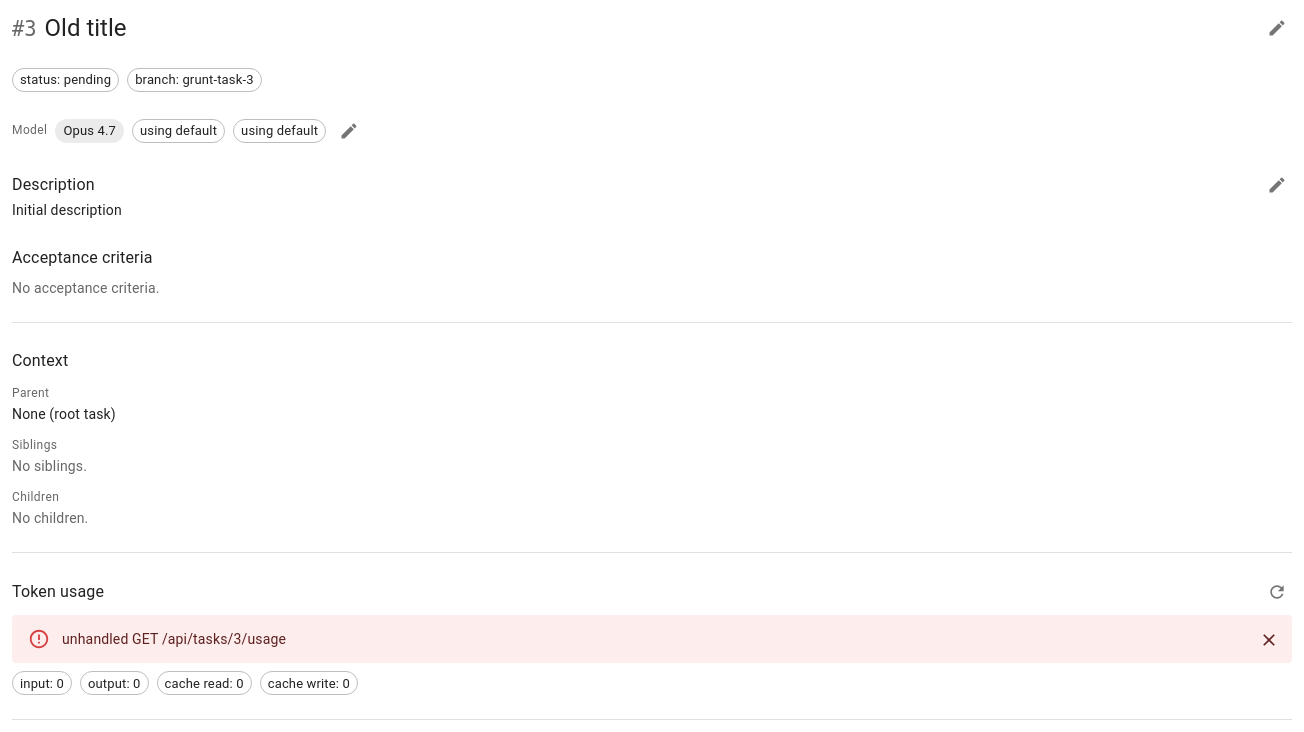
Test: TaskDetailPage › edits the title and PATCHes /api/tasks/:id with the new value
Expected: the heading "#3Old title" is shown, [12,14,126,42]
Click the button named "edit title" at (1277, 28), box [1262,13,1292,43]
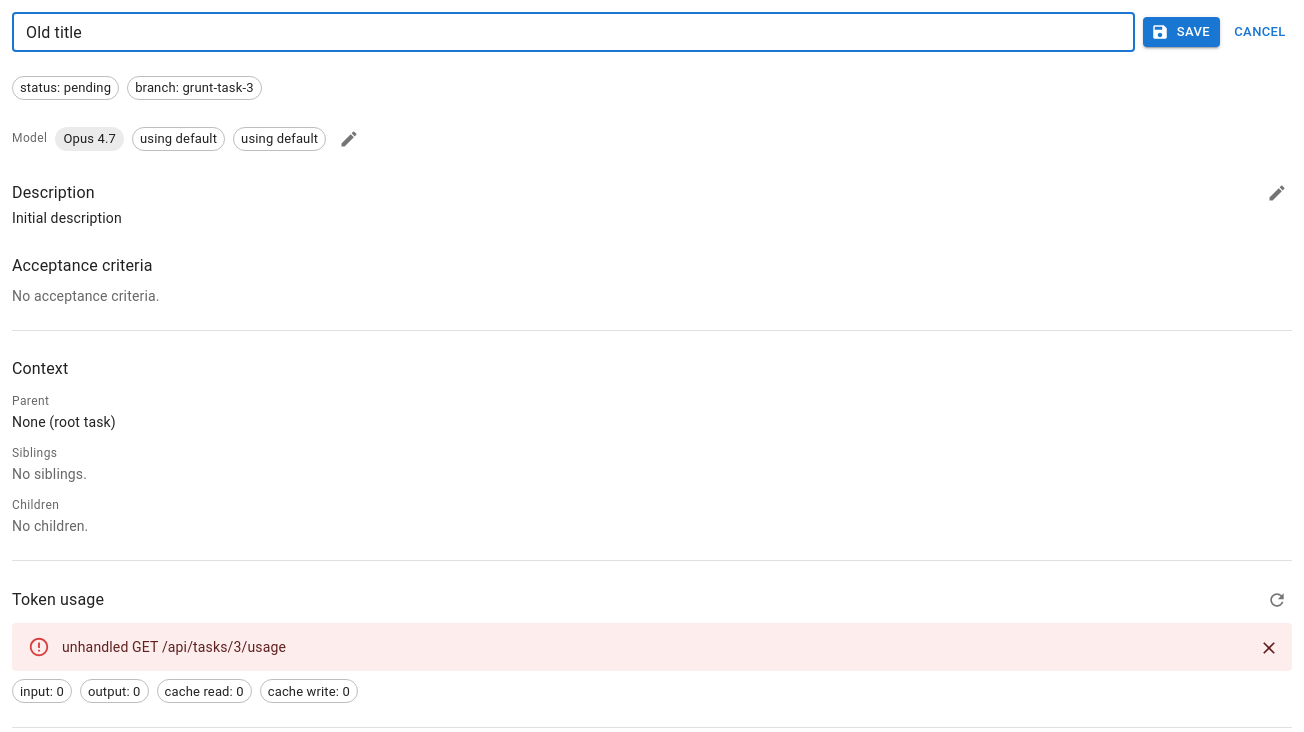
Replace the text in the field named "Title" with "New title" at (573, 32), box [12,12,1135,52]
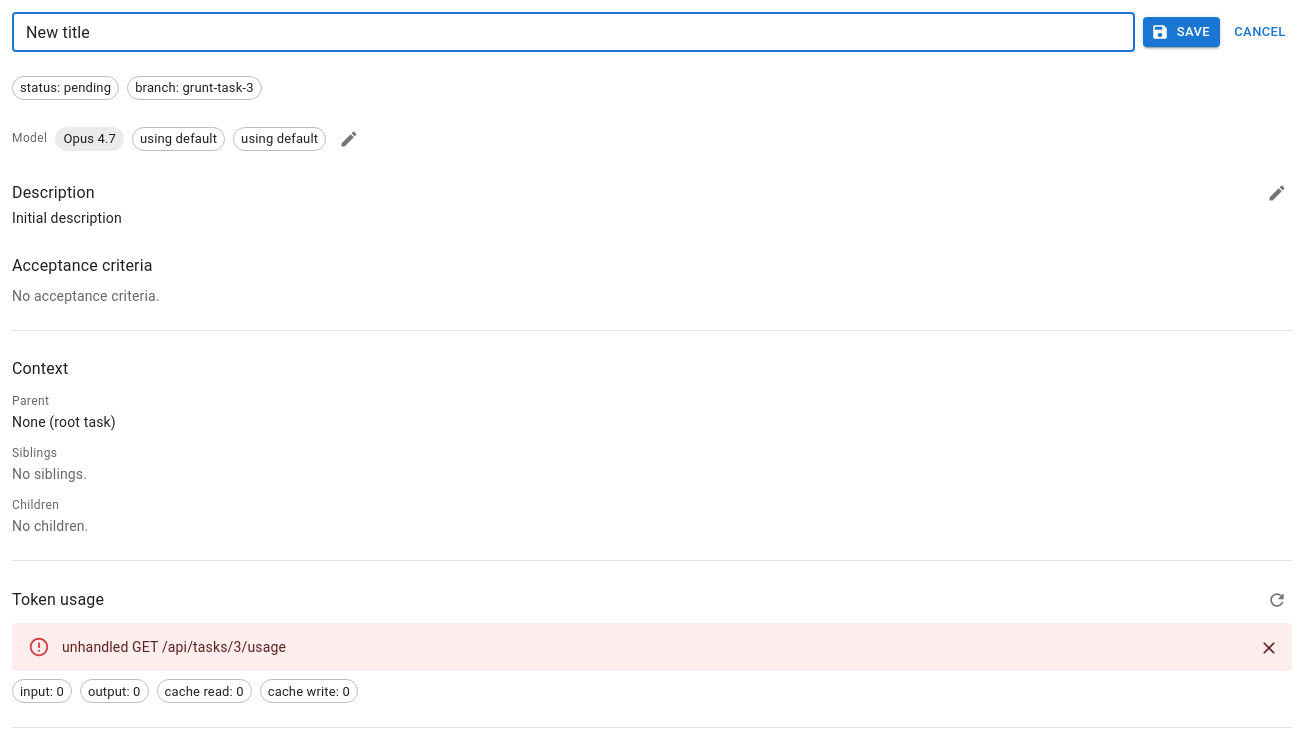
Click the button "Save" at (1181, 32), box [1143,17,1220,47]
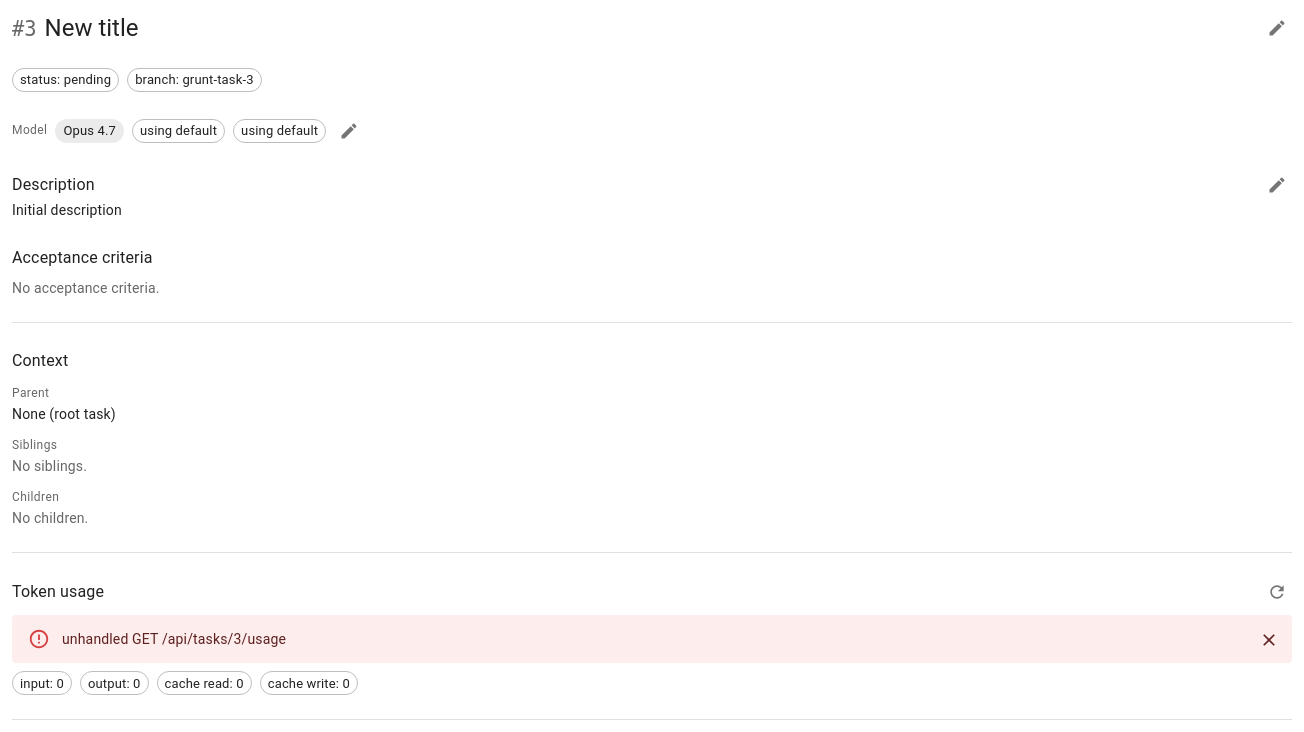
Now the heading "#3New title" is shown, box [12,14,138,42]
